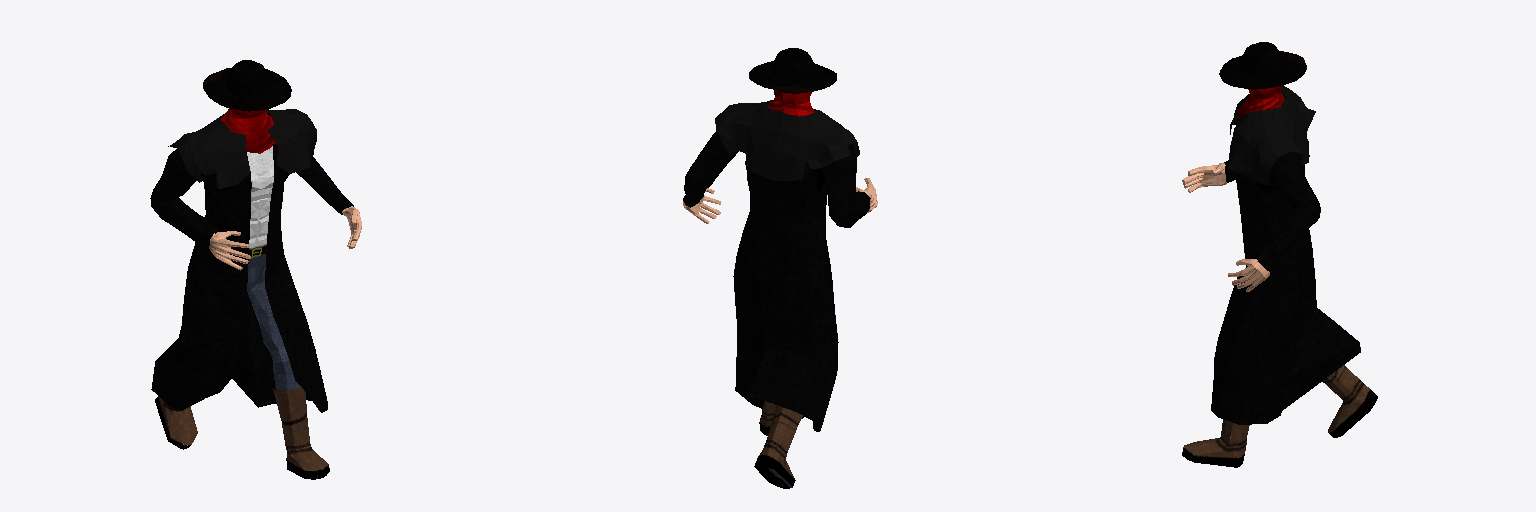
3 renders of one model, left to right at view 1: azimuth 30°, elevation 25°; view 2: azimuth 150°, elevation 25°; view 3: azimuth 270°, elevation 25°, orthographic.
Visible parts, largest first — view 1: Undertaker_walk:Undertaker_4:Undertaker_4:Undertaker; view 2: Undertaker_walk:Undertaker_4:Undertaker_4:Undertaker; view 3: Undertaker_walk:Undertaker_4:Undertaker_4:Undertaker.
Part boxes in pixels (x1,y1,x2,y2): Undertaker_walk:Undertaker_4:Undertaker_4:Undertaker: (150, 60, 361, 479); Undertaker_walk:Undertaker_4:Undertaker_4:Undertaker: (683, 48, 877, 488); Undertaker_walk:Undertaker_4:Undertaker_4:Undertaker: (1182, 42, 1377, 467).
Bounding box in the file's own units: 1.38 × 2.86 × 1.26.
Materials: 1 (1 with a texture image).